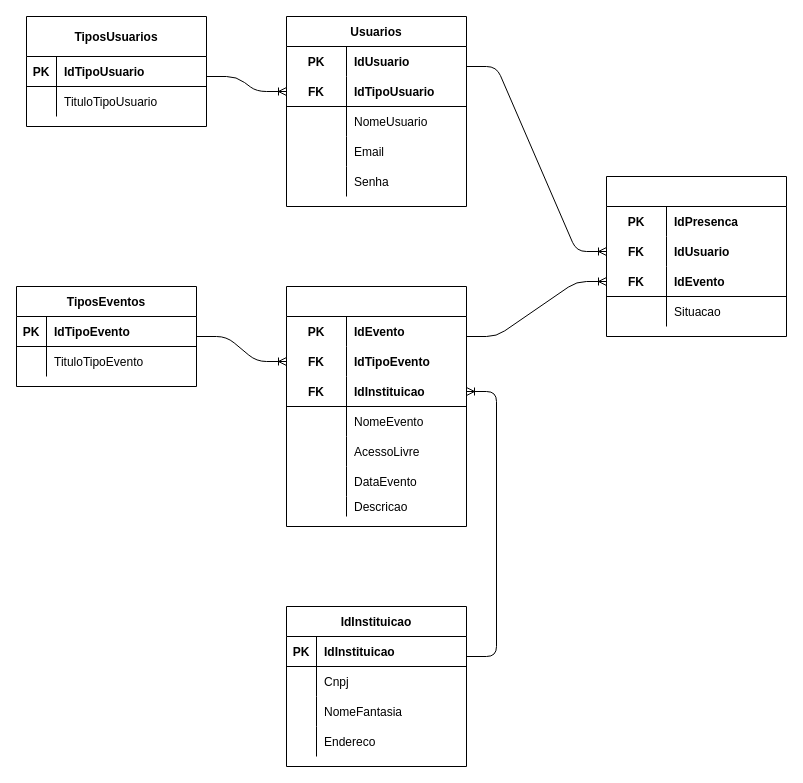
The diagram is 803 pixels wide and 783 high, and some of its shapes have lost their labels. The box of each missing label's shape, as (x1, y1, x2, y2) in pixels:
Eventos: (286, 286, 466, 526)
Presencas: (606, 176, 786, 336)
